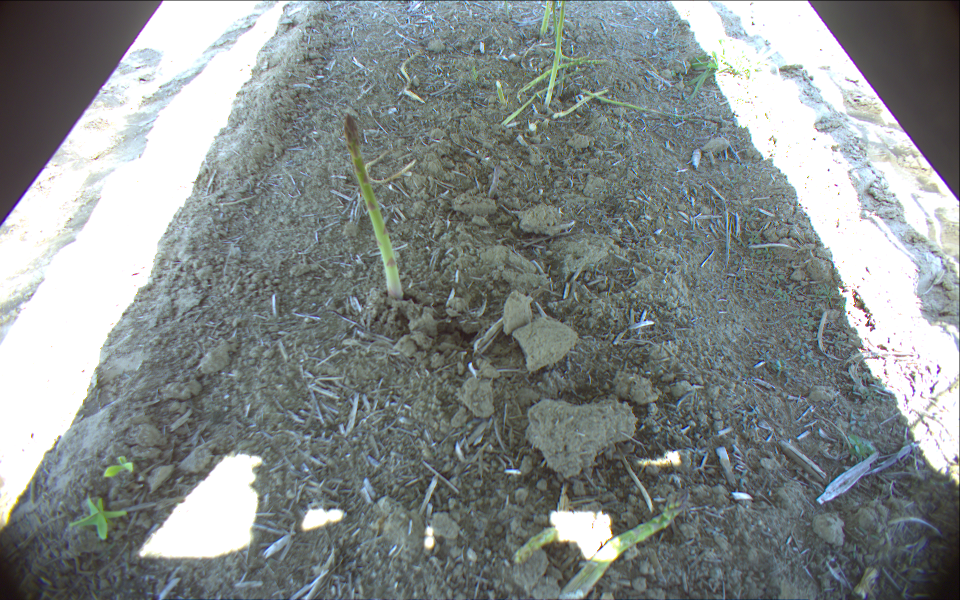aspa: (562, 489, 689, 600), (344, 113, 404, 301), (502, 72, 582, 126), (515, 59, 607, 98), (582, 90, 704, 119), (545, 1, 567, 109), (364, 147, 416, 184), (551, 88, 608, 121), (512, 526, 558, 563), (399, 48, 425, 108), (557, 51, 605, 61), (539, 1, 550, 33), (496, 79, 505, 105), (551, 1, 558, 34)
